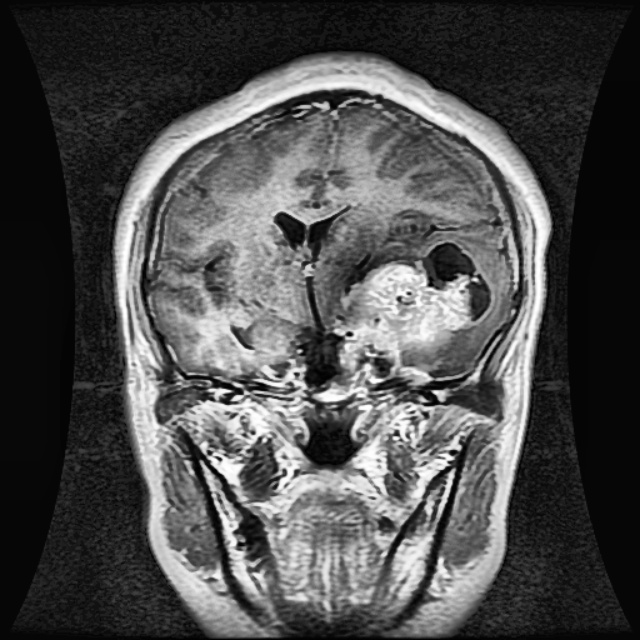Glioma: (338, 239, 492, 368)
